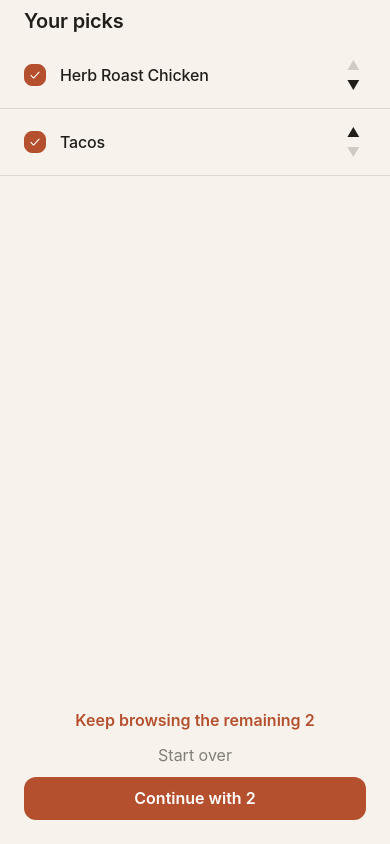
Test case: Start over shows a retryable error and stays put if cancelling fails
The image size is (390, 844).
expect the text "Herb Roast Chicken" is shown: met, box [60,64,209,84]
Click the button with test id "shortlist-start-over" at {"x": 195, "y": 756}, box [24,742,366,769]
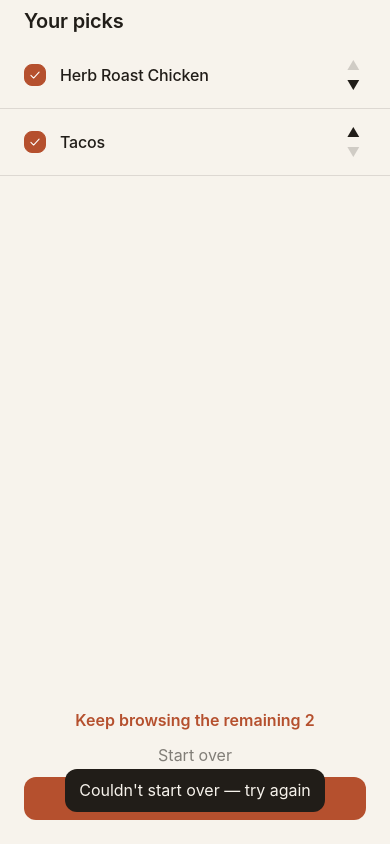
expect the text "Couldn't start over — try again" is shown: met, box [79,777,311,804]
